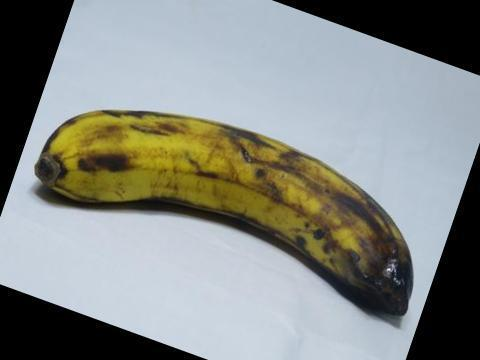overripe: (24, 99, 428, 329)
